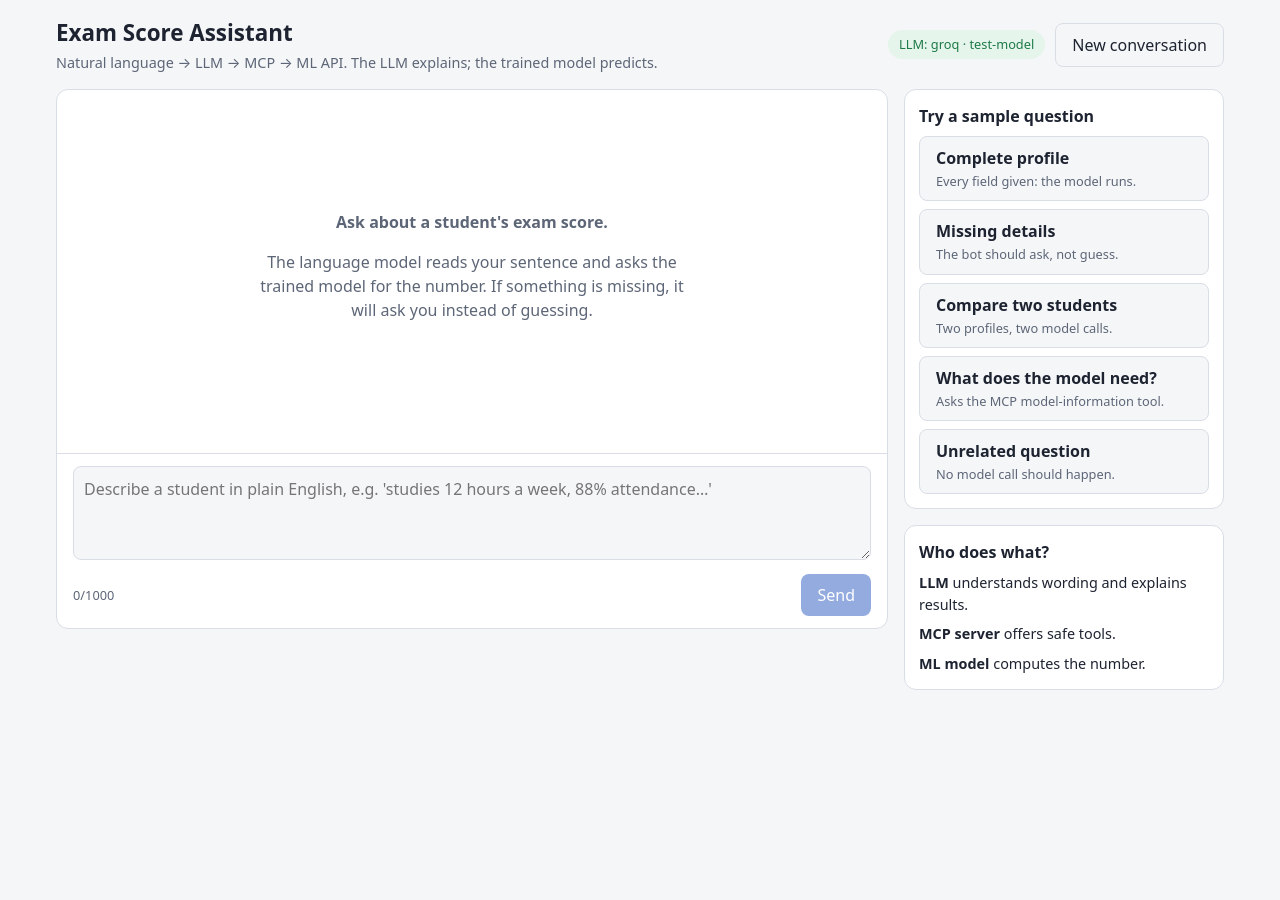
Scenario: rendering model output › shows a clarification with NO prediction card
Click the text box named "Your question" at {"x": 472, "y": 513}, box [73, 466, 871, 560]
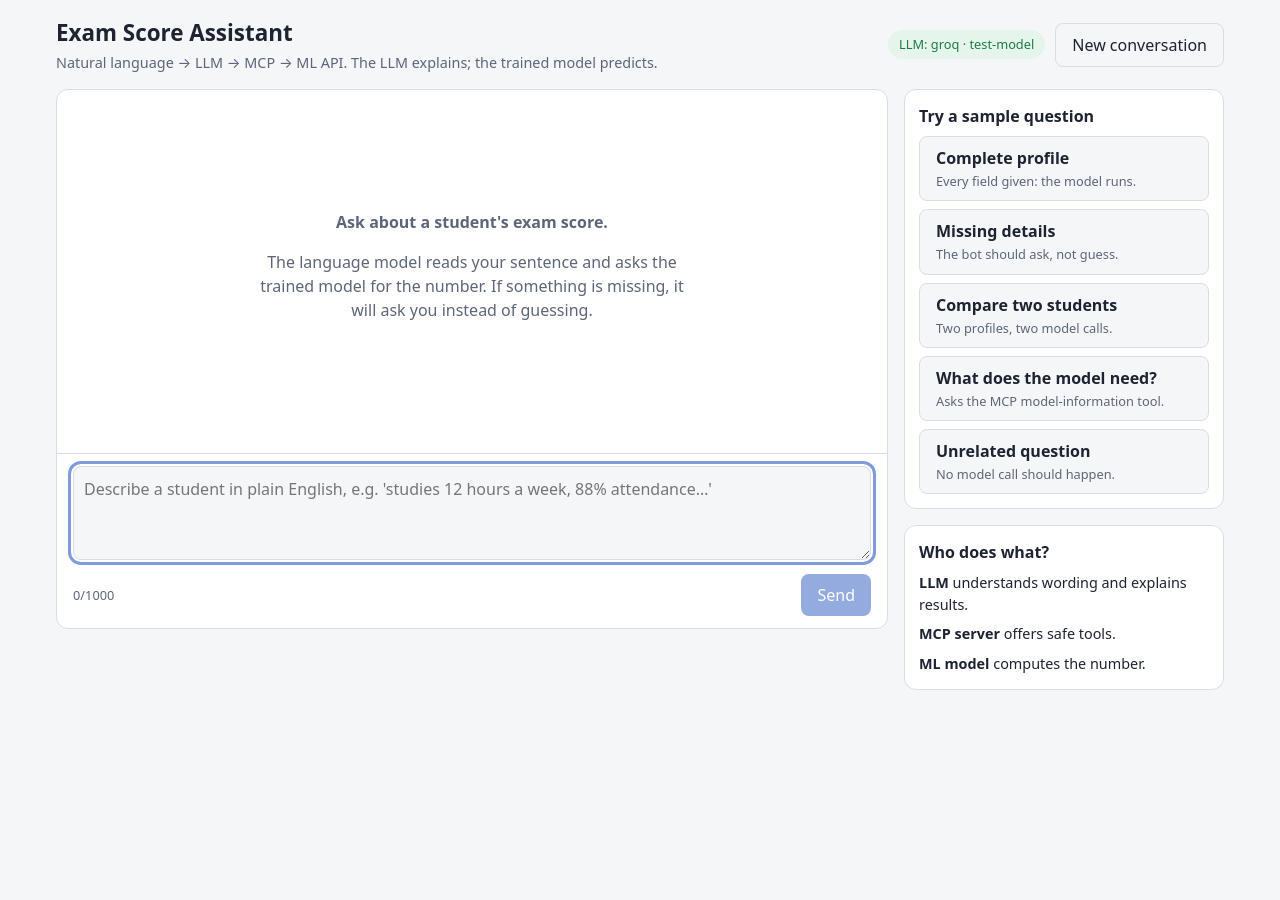
Type keys "6 hours daily"
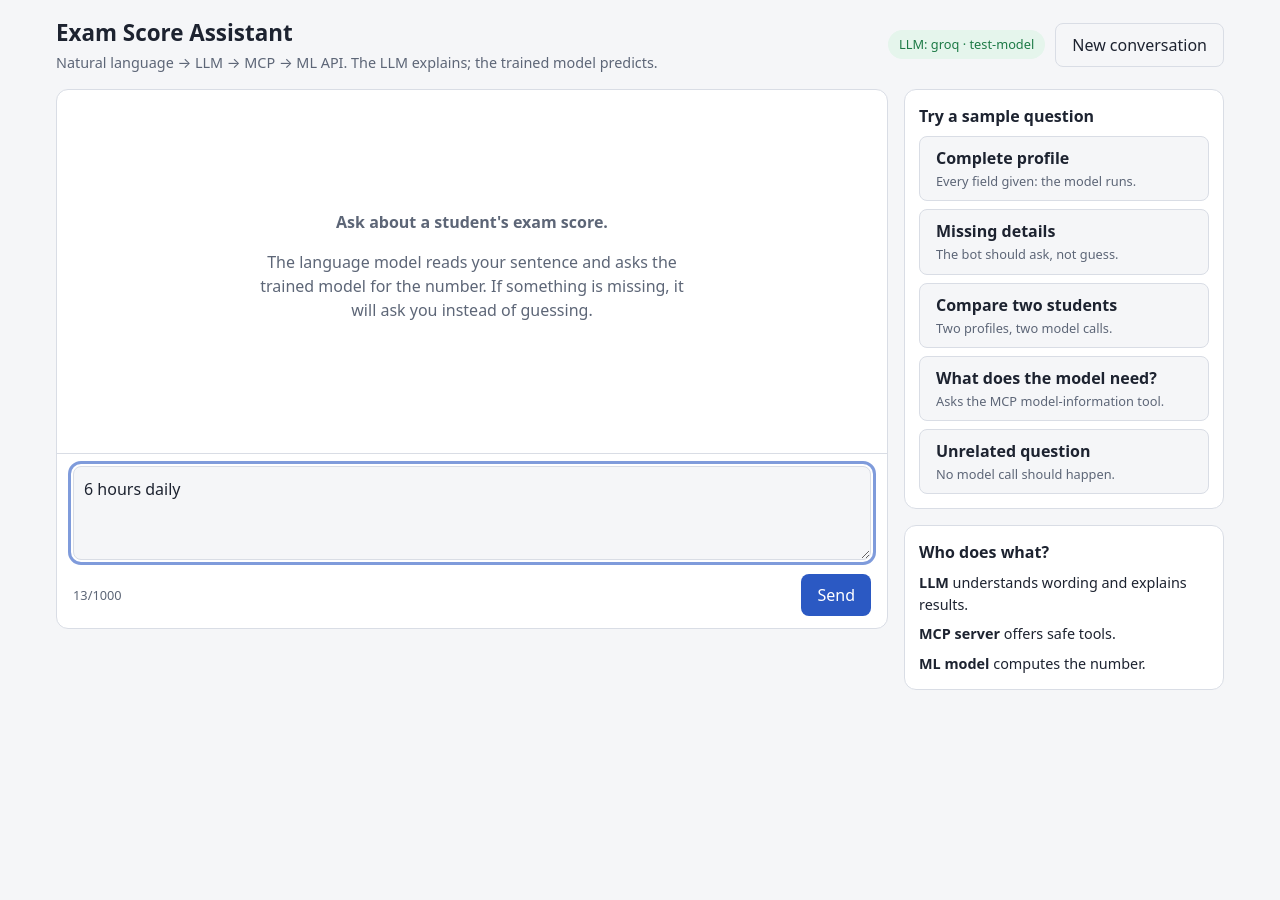
Click the button "Send" at {"x": 836, "y": 595}, box [802, 574, 871, 616]
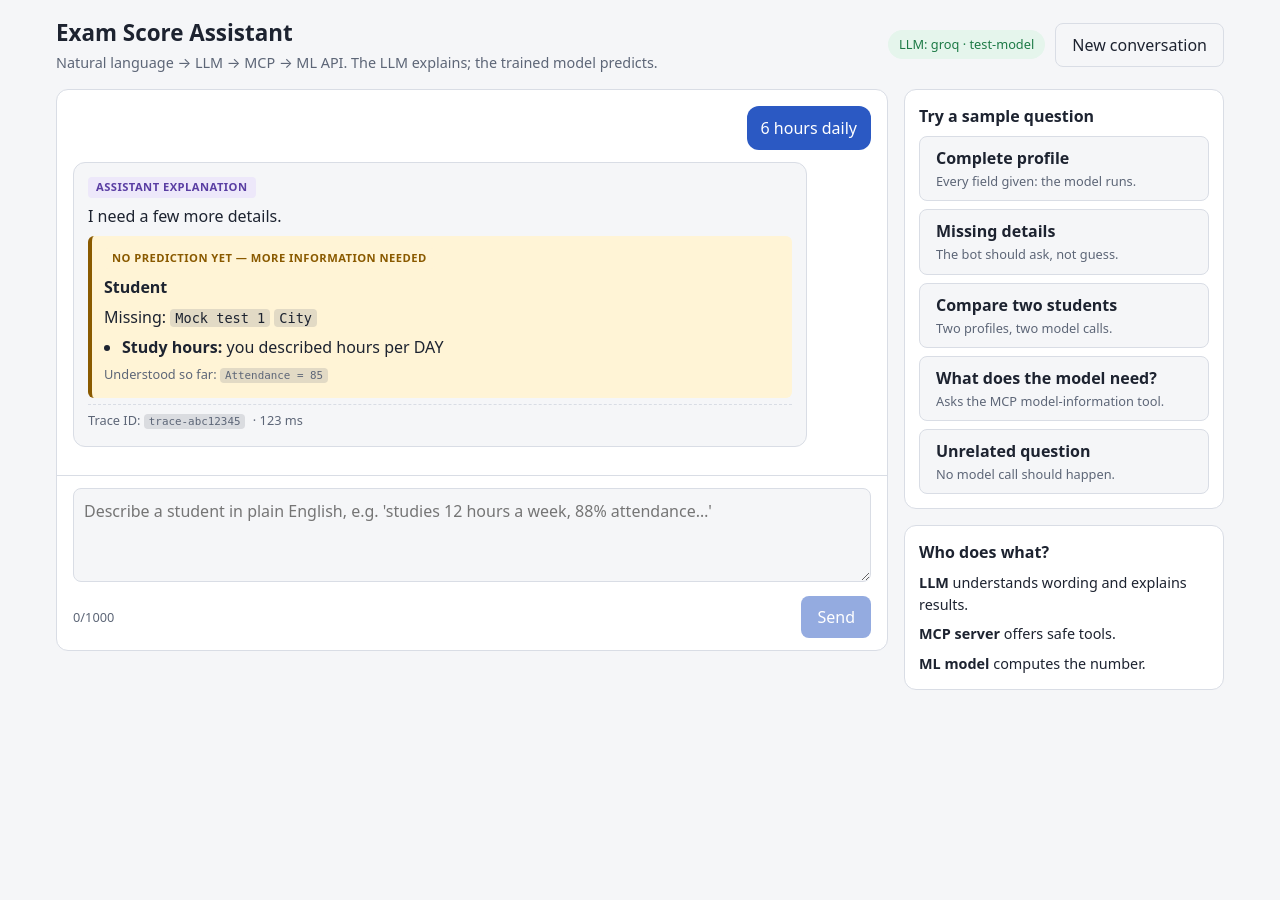
Expected: the text "No prediction yet — more information needed" is shown, [104, 248, 435, 269]
Expected: the text "Mock test 1" is shown, [170, 309, 270, 327]
Expected: the list item "Study hours: you described hours per DAY" is shown, [122, 336, 444, 358]
